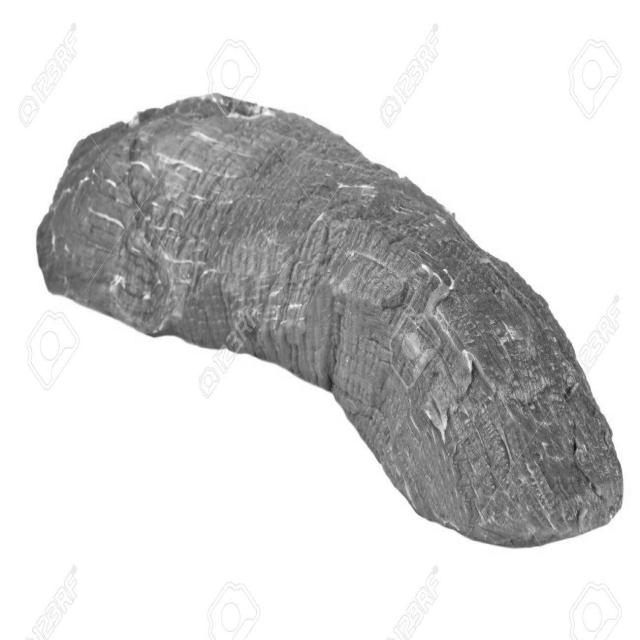filet: (45, 70, 625, 549)
